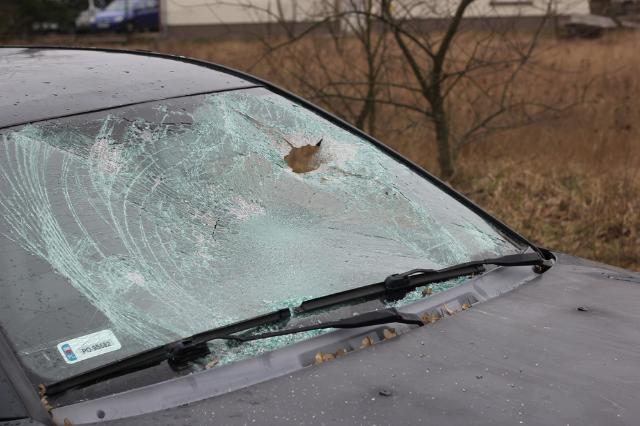glass shatter: (0, 86, 527, 410)
